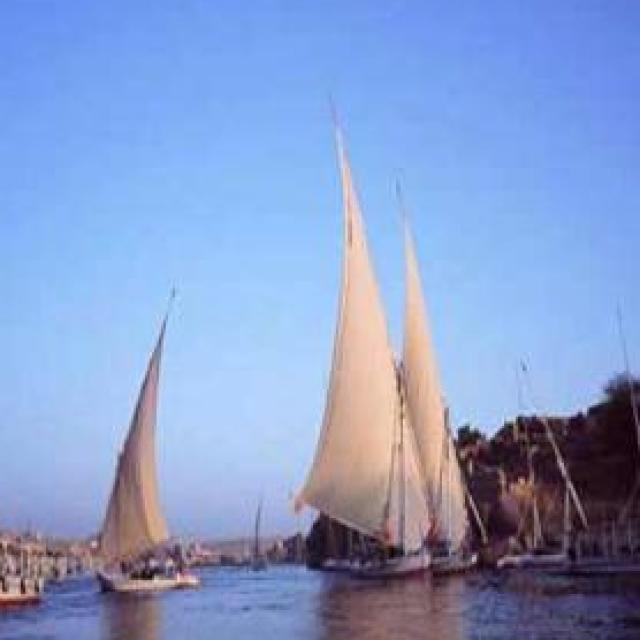sailboat: (290, 92, 438, 588), (90, 266, 188, 614)
